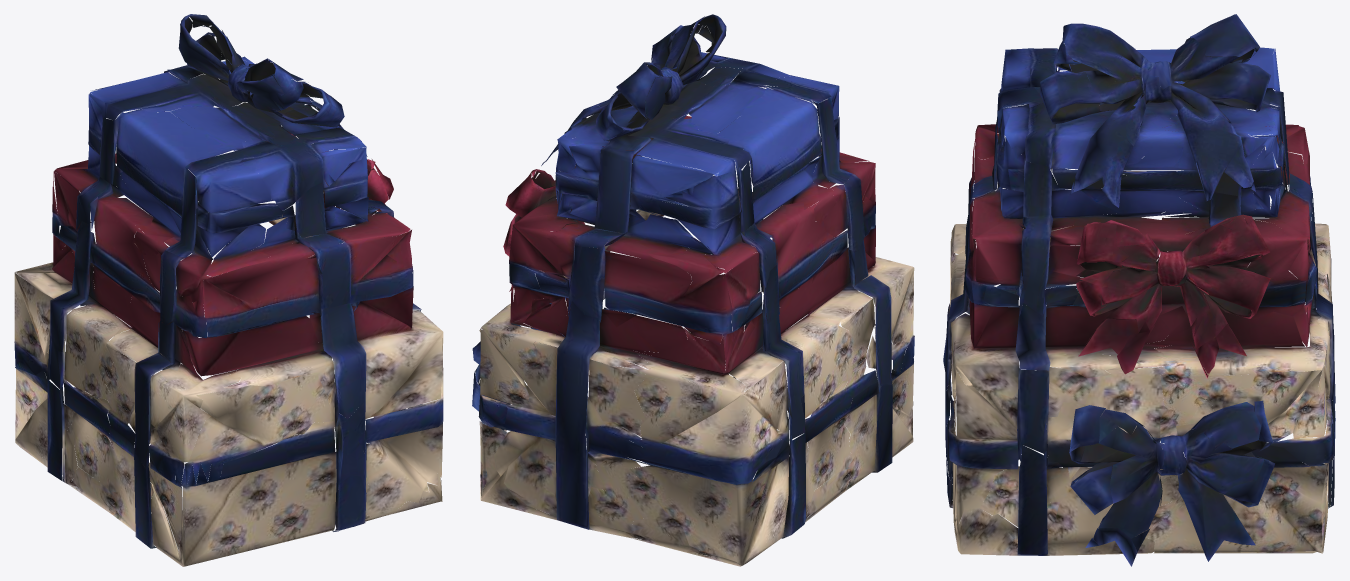
The model's file is lt_gifts.glb.
3 renders of one model, left to right at view 1: azimuth 30°, elevation 25°; view 2: azimuth 150°, elevation 25°; view 3: azimuth 270°, elevation 25°, orthographic. The views are drawn at different scales.
Visible parts, largest first — view 1: tripo_node_1f636c24-3539-44b7-8b66-875619e5a67e; view 2: tripo_node_1f636c24-3539-44b7-8b66-875619e5a67e; view 3: tripo_node_1f636c24-3539-44b7-8b66-875619e5a67e.
Boxes of the visible parts, x1,y1,x2,y2 form: tripo_node_1f636c24-3539-44b7-8b66-875619e5a67e: (14, 14, 443, 566); tripo_node_1f636c24-3539-44b7-8b66-875619e5a67e: (472, 14, 914, 566); tripo_node_1f636c24-3539-44b7-8b66-875619e5a67e: (943, 14, 1335, 566).
Size of the model in its own units: 0.7588 by 1 by 0.7489.
Materials: 1 (1 with a texture image).
